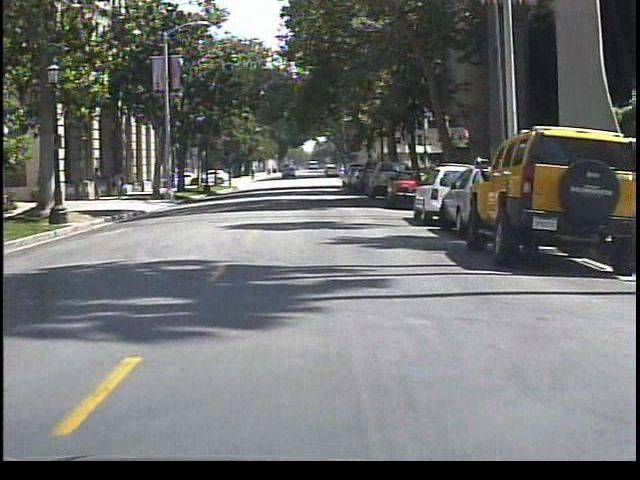person: (90, 166, 111, 205), (111, 168, 134, 203), (337, 163, 351, 188)
